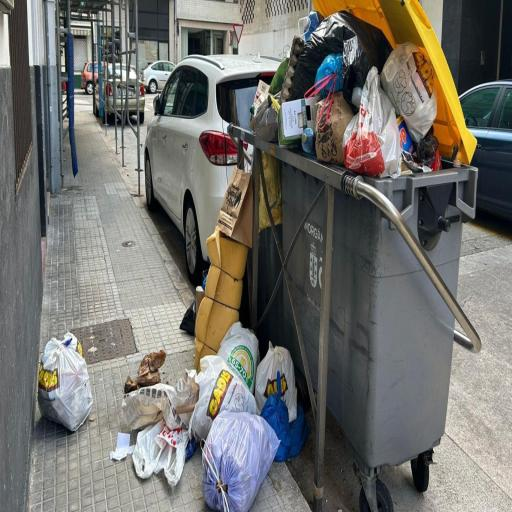Contenedor_Vacio: (33, 0, 481, 511)
